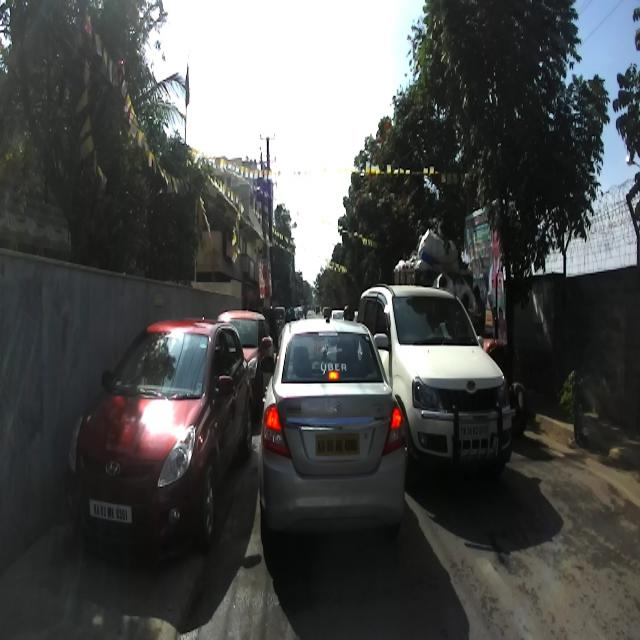Car_Hyundai: (63, 316, 253, 550)
Car_Mahindra: (355, 282, 513, 484)
Car_Maruti-Suzuki: (258, 299, 404, 549), (216, 308, 275, 424)
